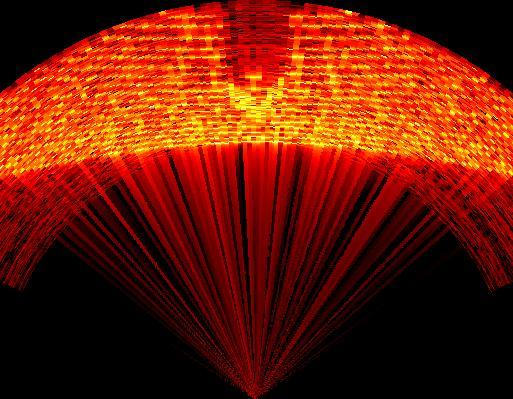box_crate: (222, 4, 290, 96)
